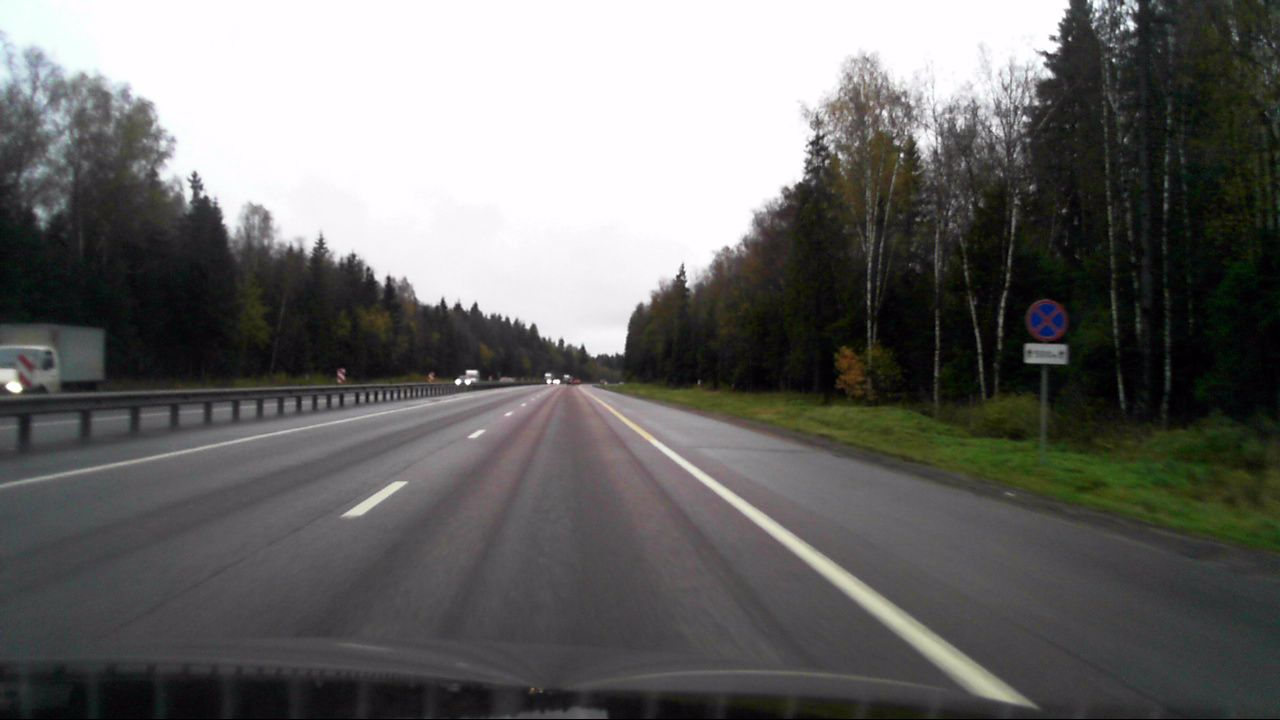No Parking: (1026, 300, 1068, 340)
